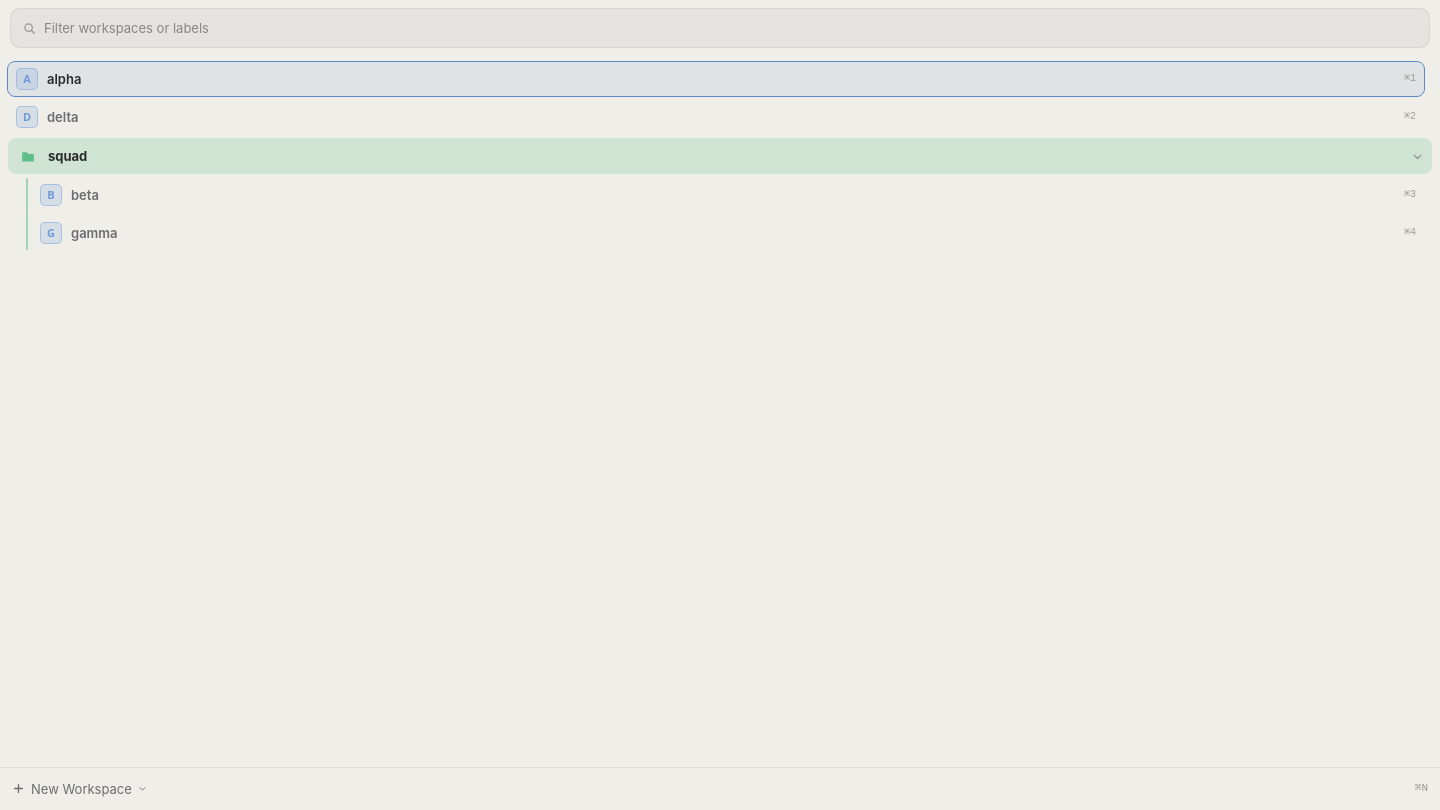
Test: M10 — the group-delete prompt titles itself like the workspace one › reads `Delete "<name>"?` and leaves the consequence to the detail line
The image size is (1440, 810).
Right-click the element with test id "group-header" at (720, 156), box [8,138,1432,174]
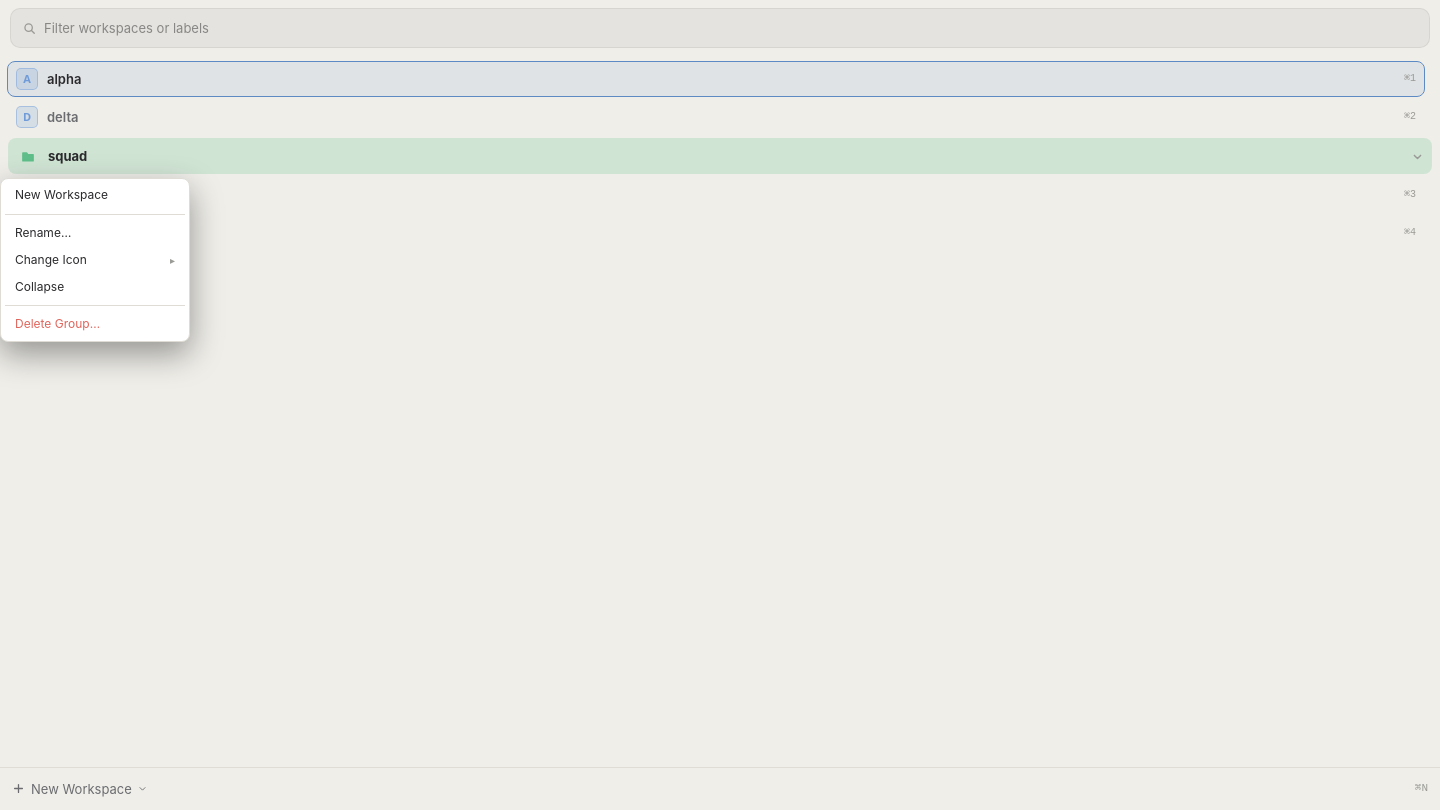
Click the menu item "Delete Group…". click: (95, 325)
box: [5,312,185,337]
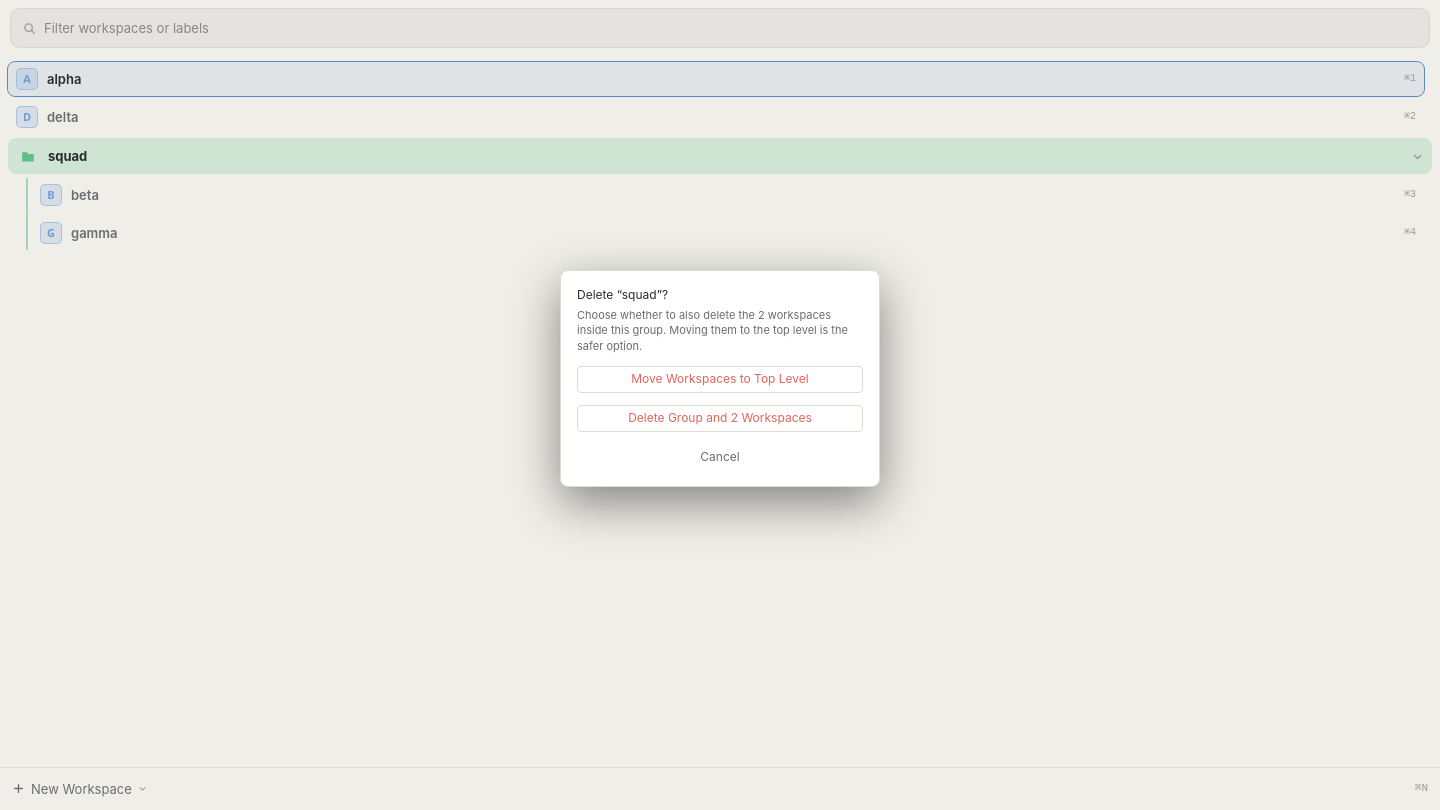
Expected: the dialog with test id "confirm-dialog" shows "Delete “squad”?", [577,287,668,302]
Expected: the text with test id "confirm-group-detail" shows "also delete the 2 workspaces", [577,308,848,353]
